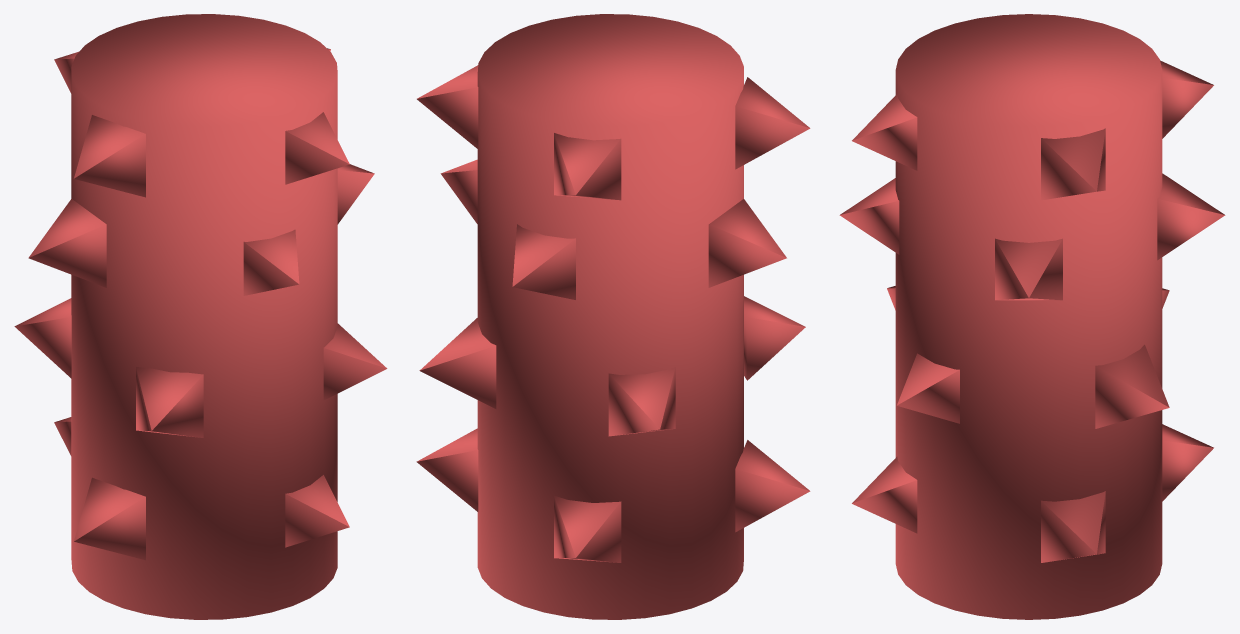
File: pics_colonne.glb
The picture shows the model from 3 angles, left to right: view 1: azimuth 30°, elevation 25°; view 2: azimuth 150°, elevation 25°; view 3: azimuth 270°, elevation 25°; orthographic projection.
Visible parts, largest first — view 1: colonnpic; view 2: colonnpic; view 3: colonnpic.
Part boxes in pixels (x1,y1,x2,y2): colonnpic: (14, 14, 387, 619); colonnpic: (416, 14, 810, 619); colonnpic: (839, 14, 1225, 619).
Size of the model in its own units: 5.7 by 7.75 by 5.5.
Materials: 1 (1 with a texture image).
